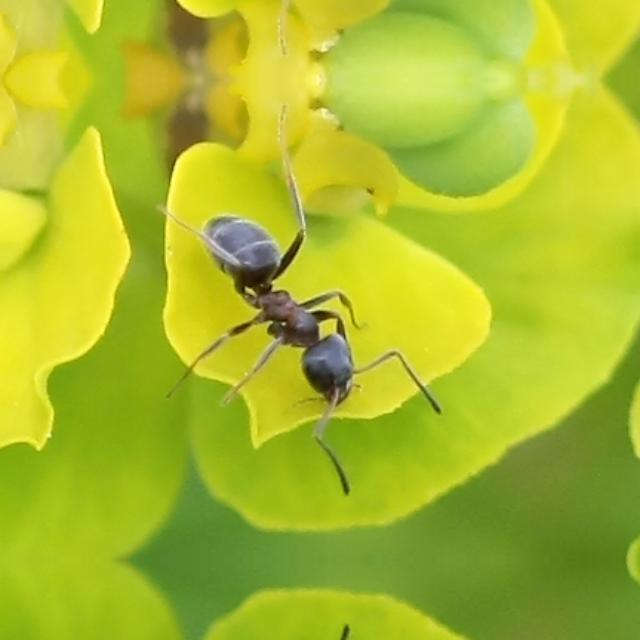Lasius: (175, 188, 422, 450)
